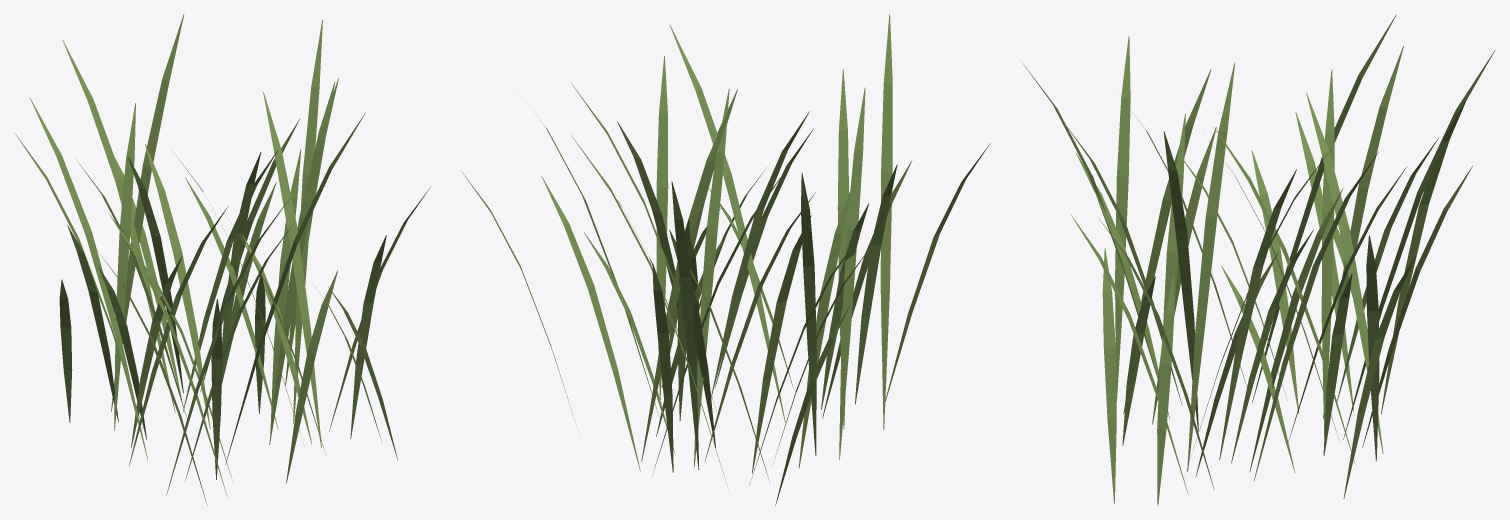
File: tall_grass_lod0.glb
The picture shows the model from 3 angles, left to right: view 1: azimuth 30°, elevation 25°; view 2: azimuth 150°, elevation 25°; view 3: azimuth 270°, elevation 25°; orthographic projection. The views are drawn at different scales.
Visible parts, largest first — view 1: Leaves; view 2: Leaves; view 3: Leaves.
Part boxes in pixels (x1,y1,x2,y2): Leaves: (15,14,431,505); Leaves: (461,14,990,505); Leaves: (1020,14,1495,505).
Bounding box in the file's own units: 0.9754 × 0.8607 × 0.9876.
